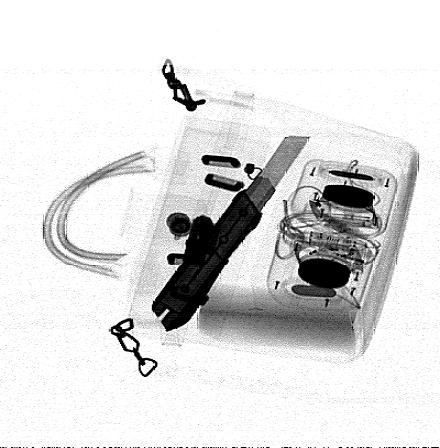Knife: (151, 135, 312, 333)
